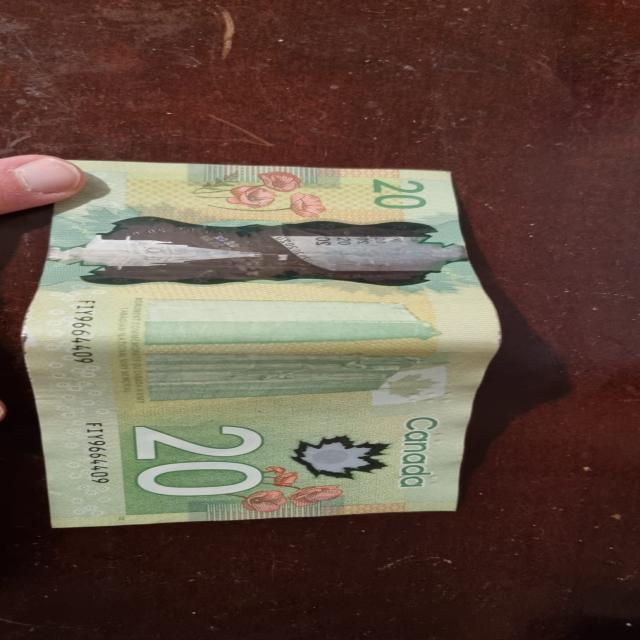20 cad: (21, 159, 508, 525)
